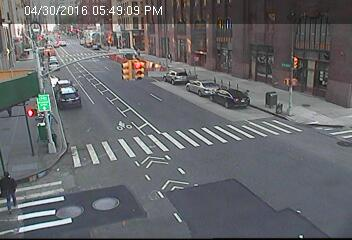neg: (34, 112, 58, 144), (30, 80, 47, 103), (21, 55, 35, 73), (43, 58, 56, 75)
